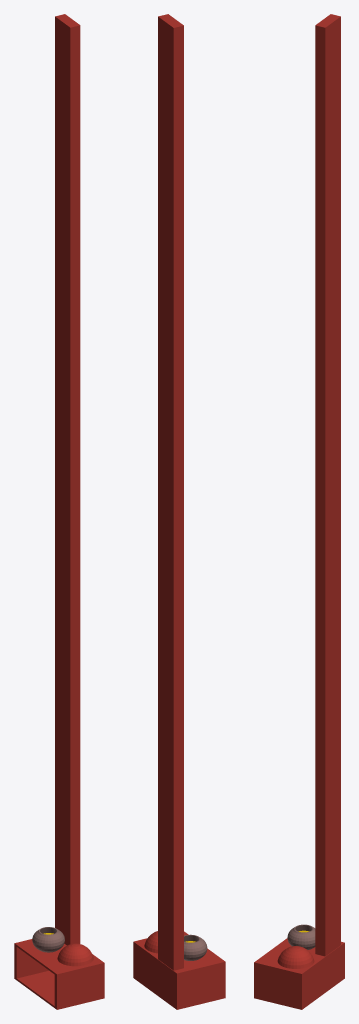
The model's file is ocaklık.fbx.
3 views of the same model, side by side, from view 1: azimuth 30°, elevation 25°; view 2: azimuth 210°, elevation 25°; view 3: azimuth 330°, elevation 25° (orthographic). The views are drawn at different scales.
Visible parts, largest first — view 1: Cylinder; view 2: Cylinder; view 3: Cylinder.
Boxes of the visible parts, x1,y1,x2,y2 form: Cylinder: (14,14,104,1009); Cylinder: (133,14,225,1009); Cylinder: (254,14,344,1009).
Bounding box in the file's own units: 213 × 4095 × 331.
